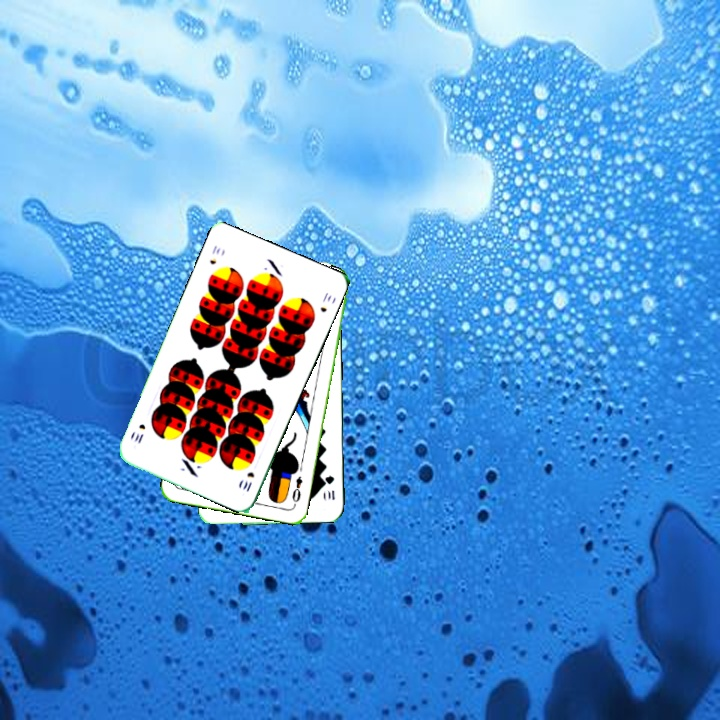EO: (288, 472, 305, 508)
G10: (321, 472, 337, 502)
S10: (239, 468, 257, 494), (206, 241, 223, 267)
